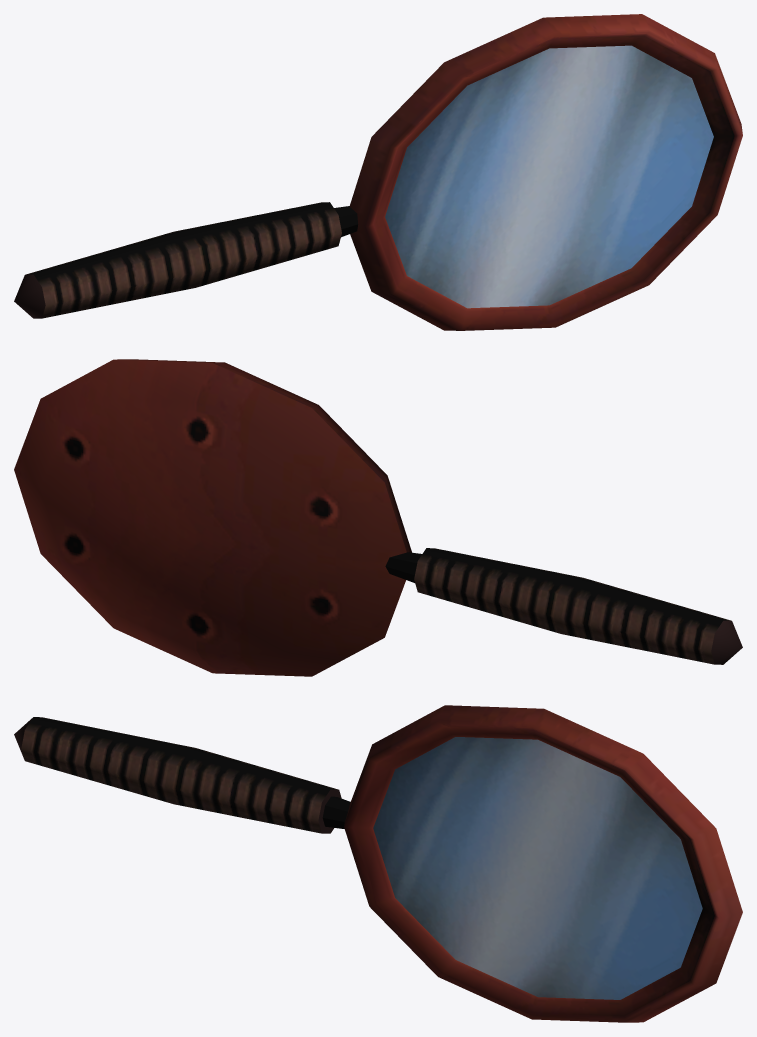
The model's file is Mirror.obj.
3 views of the same model, one above another, from view 1: azimuth 30°, elevation 25°; view 2: azimuth 150°, elevation 25°; view 3: azimuth 330°, elevation 25° (orthographic).
Visible parts, largest first — view 1: Mirror; view 2: Mirror; view 3: Mirror.
Boxes of the visible parts, x1=… form: Mirror: x1=14, y1=14, x2=742, y2=330; Mirror: x1=14, y1=359, x2=742, y2=676; Mirror: x1=14, y1=705, x2=742, y2=1022.
Size of the model in its own units: 3.71 by 1.51 by 0.3555.
1 material, 1 textured.
